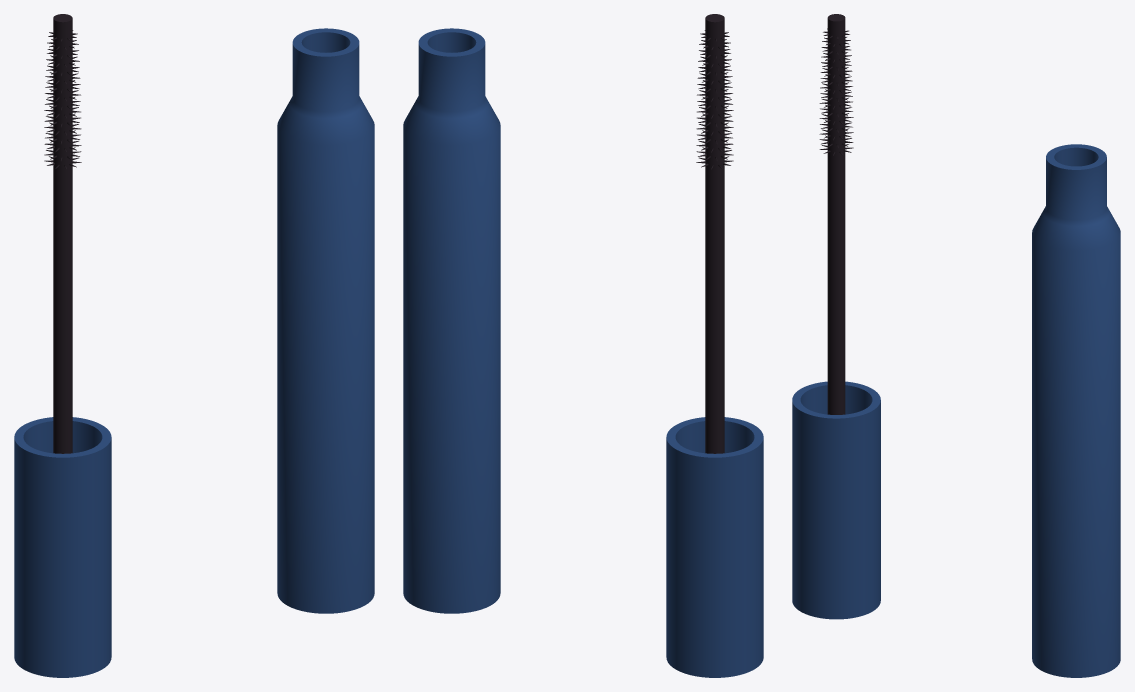
3 views of the same model, side by side, from view 1: azimuth 30°, elevation 25°; view 2: azimuth 150°, elevation 25°; view 3: azimuth 330°, elevation 25° (orthographic). The views are drawn at different scales.
Parts seen in each view (by area): view 1: Open mascara bottle with closed base, Hollow wand cap, Wand stem and brush core; view 2: Open mascara bottle with closed base, Hollow wand cap, Wand stem and brush core; view 3: Open mascara bottle with closed base, Hollow wand cap, Wand stem and brush core.
Boxes of the visible parts, box(x1,y1,x2,y2) form: Open mascara bottle with closed base: box(277, 28, 374, 613); Hollow wand cap: box(14, 417, 111, 677); Wand stem and brush core: box(53, 14, 72, 453); Open mascara bottle with closed base: box(403, 28, 500, 613); Hollow wand cap: box(666, 417, 763, 677); Wand stem and brush core: box(705, 14, 724, 453); Open mascara bottle with closed base: box(1032, 144, 1120, 677); Hollow wand cap: box(792, 381, 880, 619); Wand stem and brush core: box(827, 14, 845, 414).
Bounding box in the file's own units: 0.066 × 0.1161 × 0.016.
